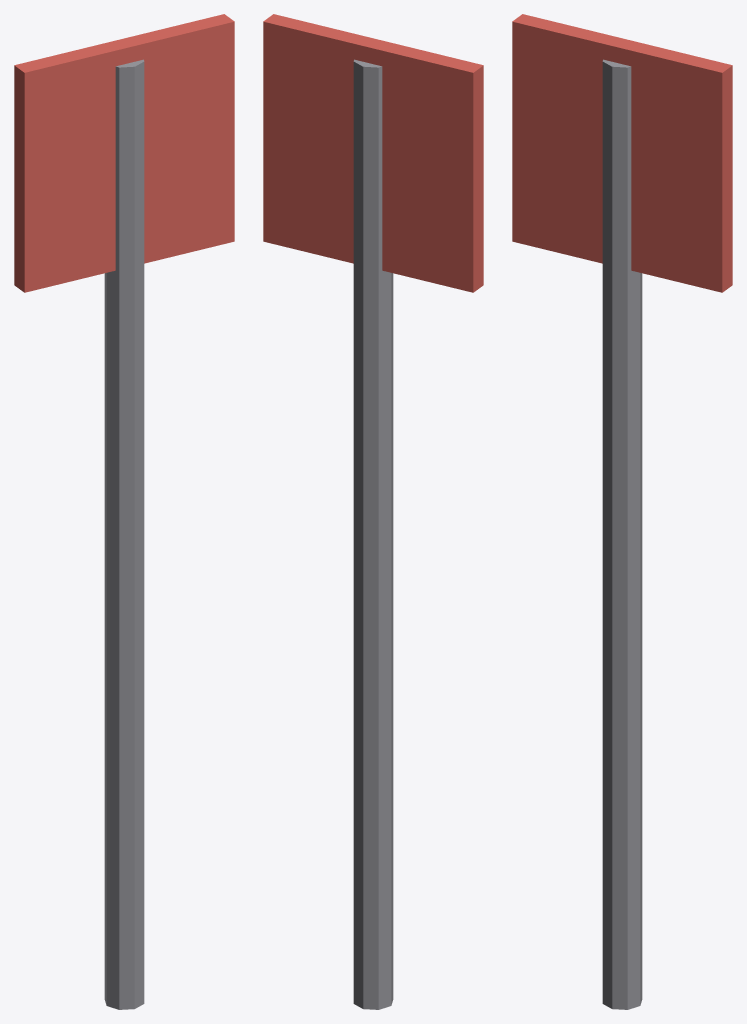
The model's file is yield_sign.glb.
3 renders of one model, left to right at view 1: azimuth 30°, elevation 25°; view 2: azimuth 150°, elevation 25°; view 3: azimuth 330°, elevation 25°, orthographic.
Parts seen in each view (by area): view 1: plate, post; view 2: plate, post; view 3: plate, post.
Boxes of the visible parts, x1=… form: plate: x1=14, y1=14, x2=234, y2=292; post: x1=104, y1=59, x2=144, y2=1009; plate: x1=263, y1=14, x2=483, y2=292; post: x1=353, y1=59, x2=393, y2=1009; plate: x1=512, y1=14, x2=732, y2=292; post: x1=602, y1=59, x2=642, y2=1009.
Bounding box in the file's own units: 0.7002 × 3.05 × 0.1191.
